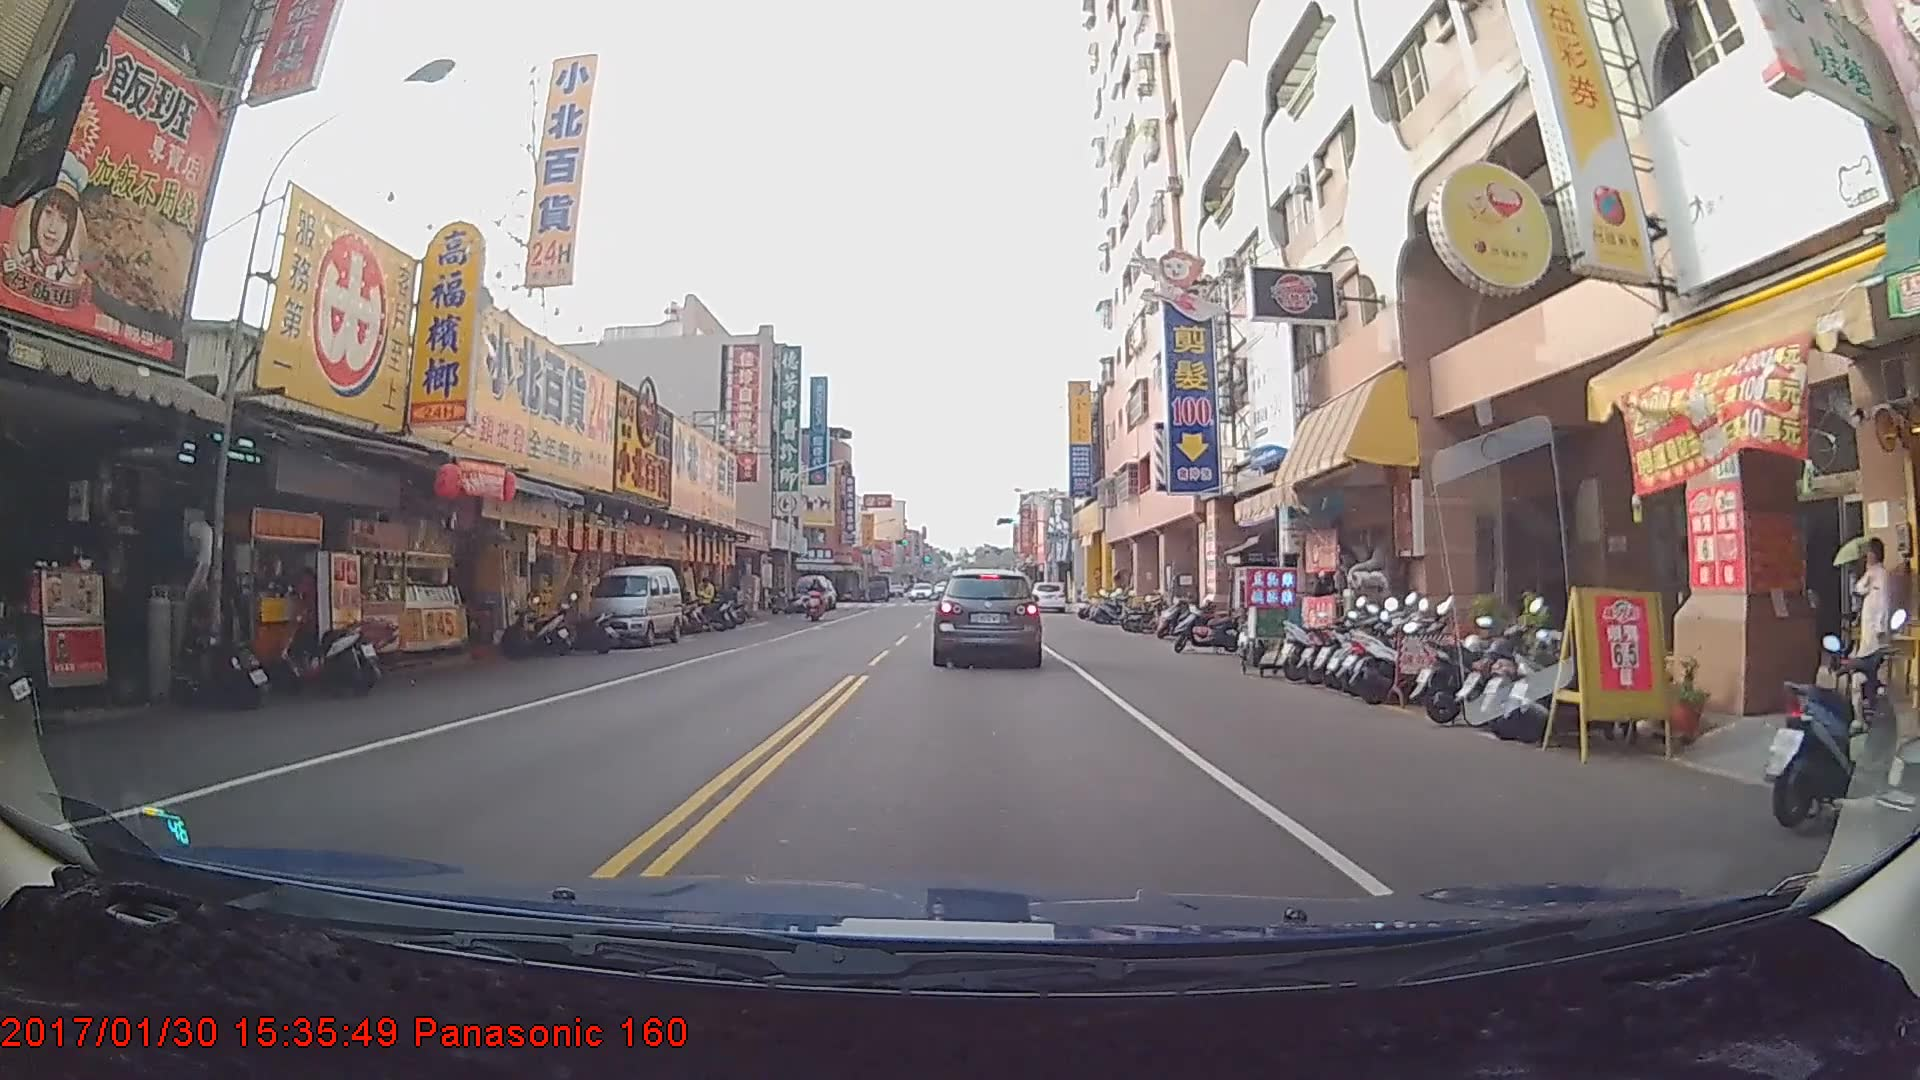pedestrian: (1842, 534, 1893, 739), (688, 575, 716, 627)
rider: (804, 575, 828, 623)
vehicle: (932, 568, 1043, 668), (581, 563, 682, 645), (795, 572, 830, 610), (1030, 582, 1066, 614)
